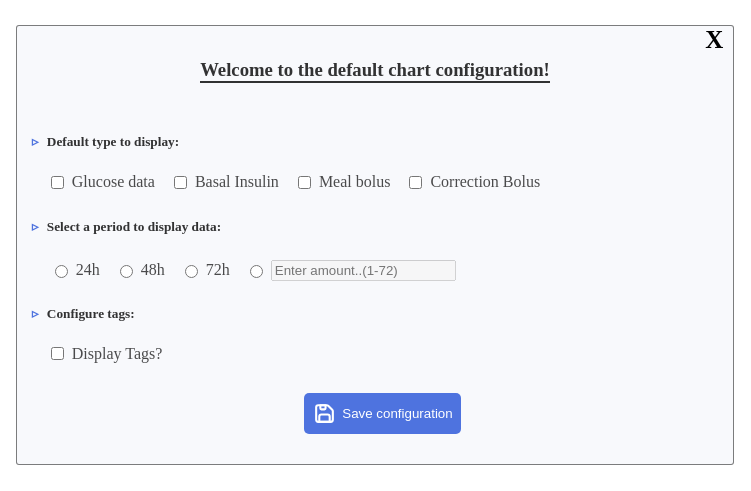
Test: Testing the modal component › test that errors are comming up when not selecting a period
Click the checkbox labelled "Basal Insulin": [180, 182] box [174,176,187,188]
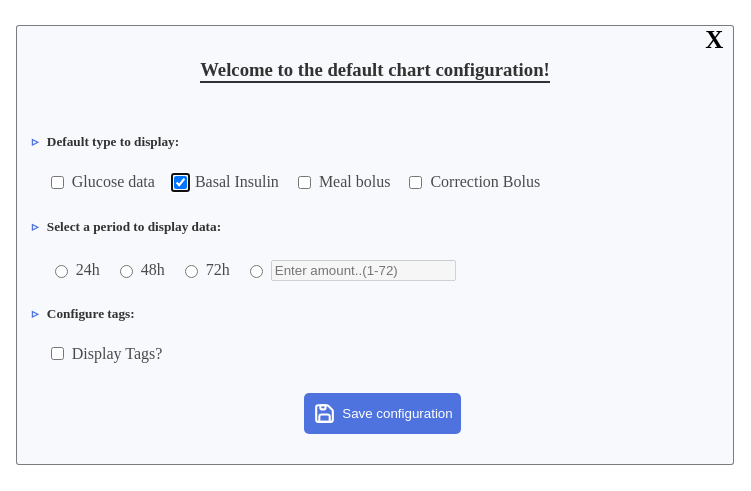
Click the button: [382, 414] box [304,393,461,434]
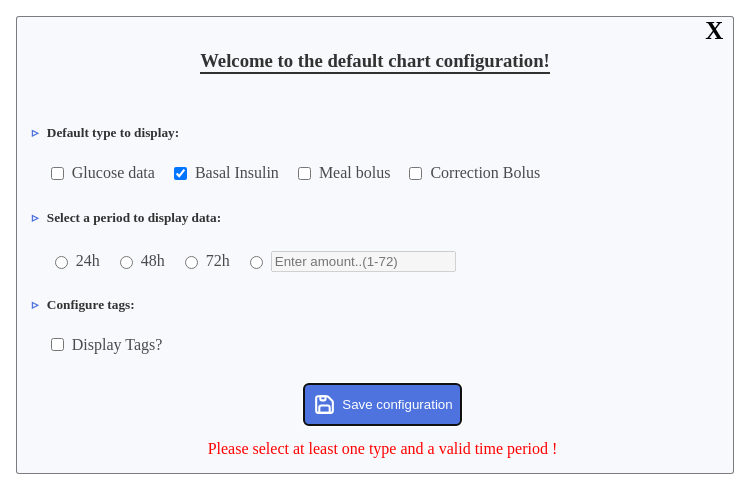
Expected: the text "Please select at least one type and a valid time period !" is shown, [208,440,557,457]
